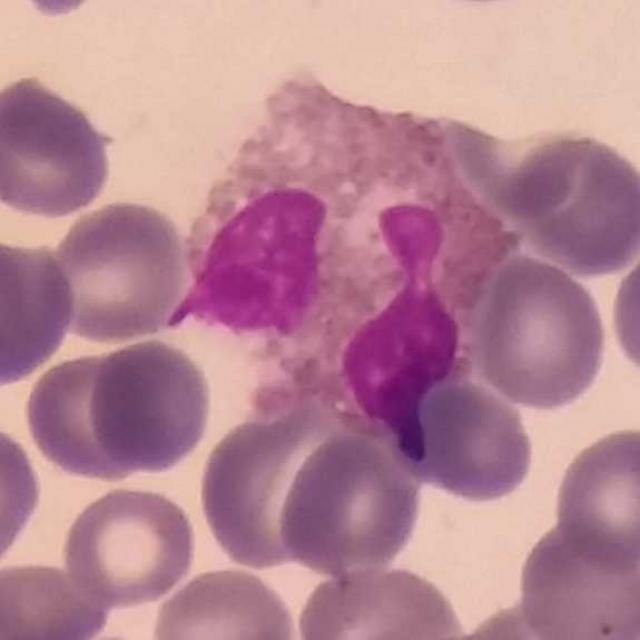Eosinophil: (189, 75, 518, 452)
RBC: (194, 394, 353, 573), (467, 251, 612, 413), (39, 196, 193, 347), (275, 427, 426, 579), (505, 126, 640, 277), (387, 375, 539, 507), (83, 334, 216, 477), (0, 71, 119, 223), (20, 348, 151, 486), (58, 482, 200, 609), (514, 515, 640, 640), (550, 422, 640, 572), (292, 561, 462, 639), (0, 233, 79, 393), (148, 563, 302, 640), (0, 556, 113, 640), (0, 417, 46, 578), (447, 599, 620, 640), (606, 234, 640, 389), (13, 0, 104, 21), (15, 0, 104, 21)
